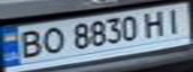0: (118, 12, 142, 42)
3: (103, 16, 127, 45)
8: (69, 20, 90, 51), (87, 18, 109, 47)
B: (12, 27, 48, 61)
H: (139, 7, 172, 38)
I: (157, 6, 190, 35)
O: (36, 25, 69, 55)
